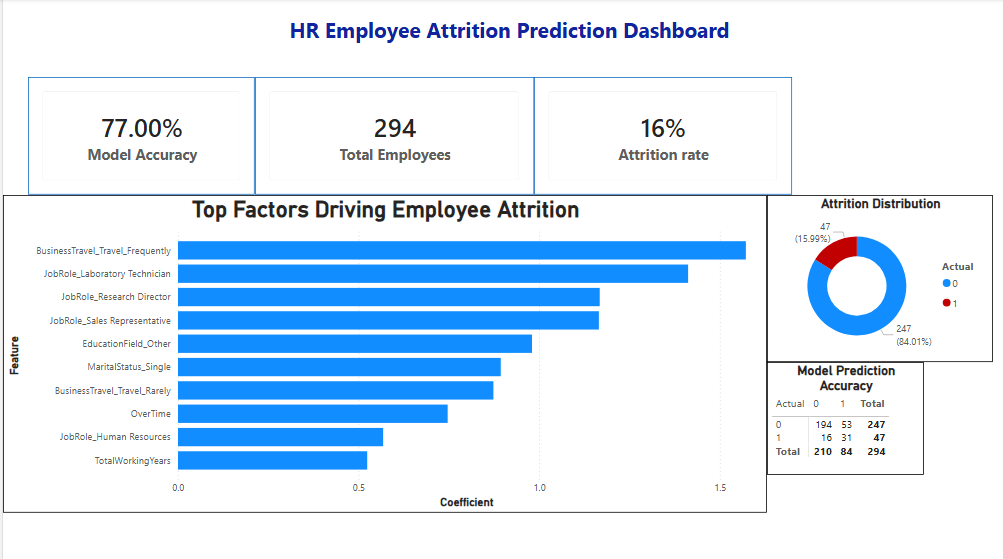

Layout of this report page (visuals, bound fields, positions):
{"tool":"powerbi","page":{"name":"Page 1","canvas":[1280,720],"ordinal":0},"visuals":[{"type":"barChart","title":"Top Factors Driving Employee Attrition","fields":{"Category":["hr_feature_importance.Feature"],"Y":["Sum(hr_feature_importance.Coefficient)"]},"box":[0,249.9,974,405.4],"z":0},{"type":"donutChart","title":"Attrition Distribution","fields":{"Y":["CountNonNull(hr_predictions.Actual)"],"Category":["hr_predictions.Actual"]},"box":[974,249.9,288.1,212.9],"z":1000},{"type":"pivotTable","title":"Model Prediction Accuracy","fields":{"Rows":["hr_predictions.Actual"],"Columns":["hr_predictions.Predicted"],"Values":["hr_feature_importance.Employee Count"]},"box":[974,462.8,200.2,144.1],"z":1001},{"type":"cardVisual","fields":{"Data":["hr_feature_importance.Model Accuracy"]},"box":[31.9,99.4,289.4,150.4],"z":1002},{"type":"cardVisual","title":"Total Employees","fields":{"Data":["hr_feature_importance.Employee Count"]},"box":[321.3,99.4,355.7,150.4],"z":1003},{"type":"cardVisual","fields":{"Data":["hr_feature_importance.Attrition rate"]},"box":[677,99.4,328.9,150.4],"z":1004},{"type":"textbox","box":[358.2,15.3,575,84.1],"z":1005}]}

Visuals, with their boxes in screenshot pixels (x1, y1, x2, y2), scaled from the page's 1280x720 canvas onto the 1003x559 screenshot:
"Top Factors Driving Employee Attrition" barChart: [left=0, top=194, right=763, bottom=509]
"Attrition Distribution" donutChart: [left=763, top=194, right=989, bottom=359]
"Model Prediction Accuracy" pivotTable: [left=763, top=359, right=920, bottom=471]
cardVisual - hr_feature_importance.Model Accuracy: [left=25, top=77, right=252, bottom=194]
"Total Employees" cardVisual: [left=252, top=77, right=530, bottom=194]
cardVisual - hr_feature_importance.Attrition rate: [left=530, top=77, right=788, bottom=194]
textbox: [left=281, top=12, right=731, bottom=77]
